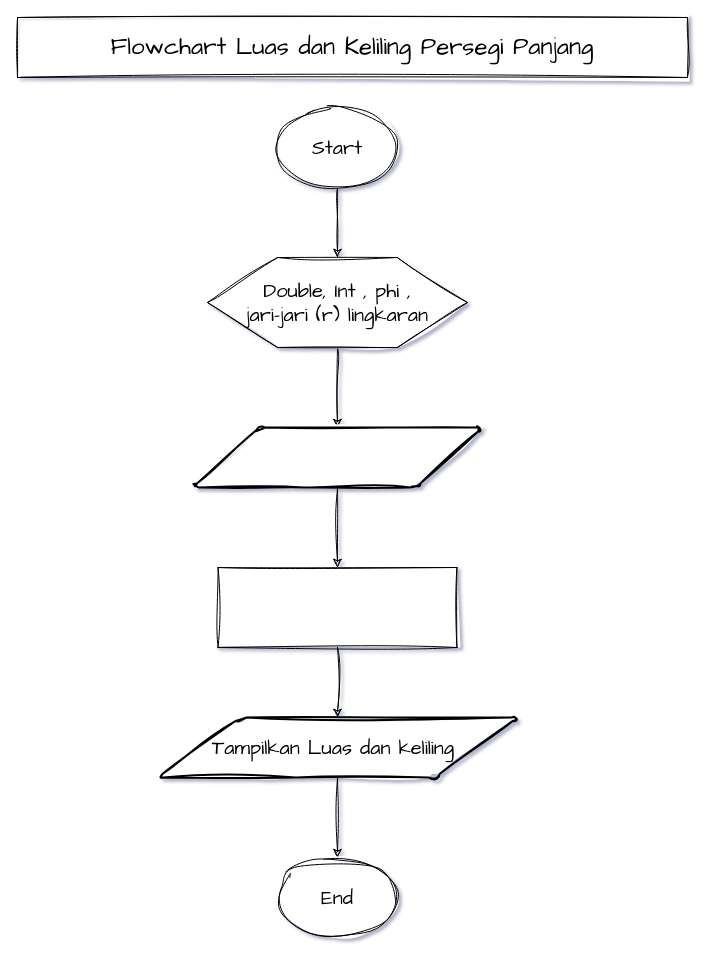
The diagram is 711 pixels wide and 961 high, and some of its shapes have lost their labels. Each missing label, with the centre of its shape:
"Input phi , jari-jari (r)" goes at point 337,457.
"Luas = phi * r * r keliling = 2 * r * r" goes at point 337,607.
